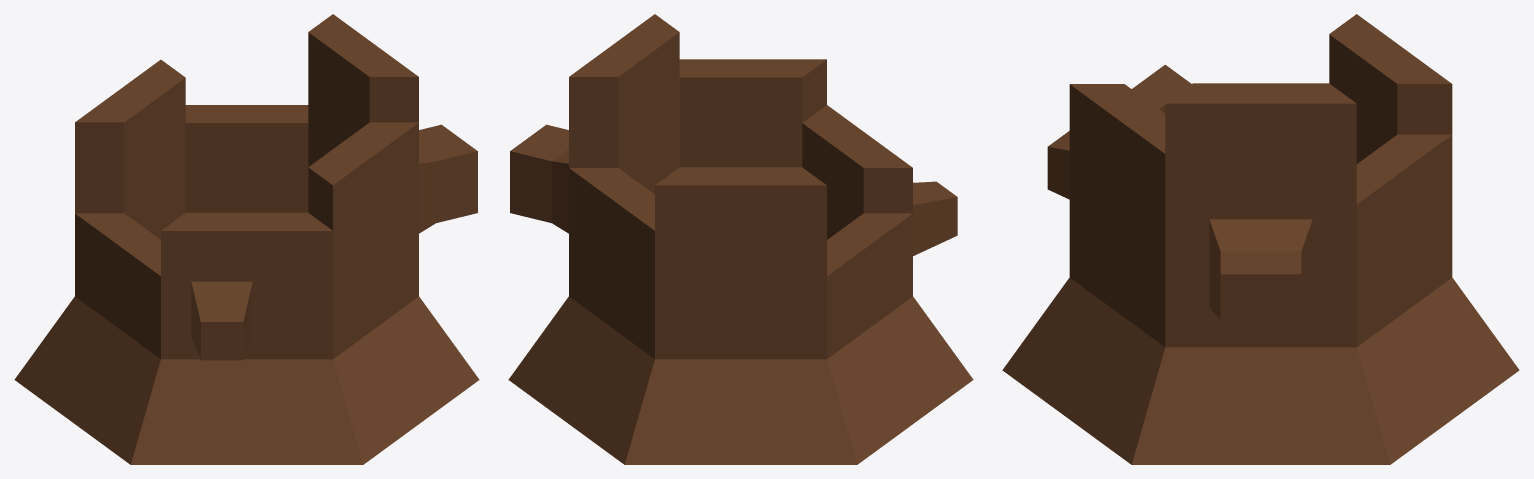
Rendered from stump_old.glb.
The picture shows the model from 3 angles, left to right: view 1: azimuth 30°, elevation 25°; view 2: azimuth 150°, elevation 25°; view 3: azimuth 270°, elevation 25°; orthographic projection. The views are drawn at different scales.
Parts seen in each view (by area): view 1: stump_old; view 2: stump_old; view 3: stump_old.
Boxes of the visible parts, x1=… form: stump_old: x1=14, y1=14, x2=479, y2=464; stump_old: x1=508, y1=14, x2=973, y2=464; stump_old: x1=1002, y1=14, x2=1519, y2=464.
Size of the model in its own units: 0.3565 by 0.2665 by 0.371.
